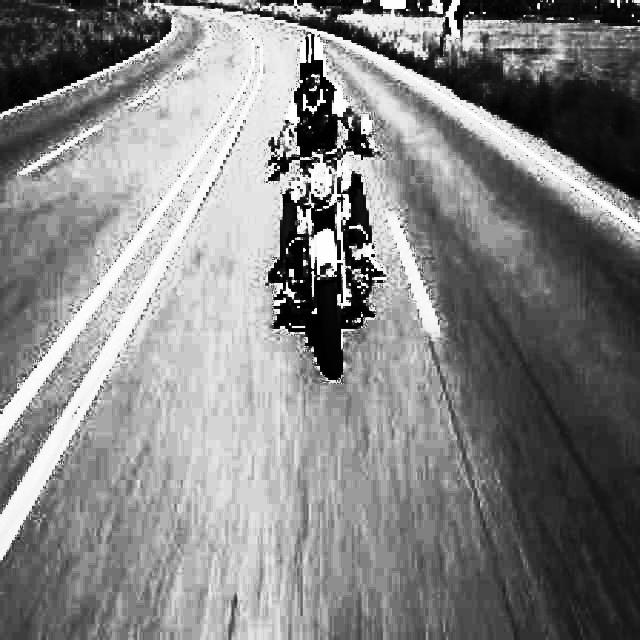Bike: (284, 123, 366, 385)
